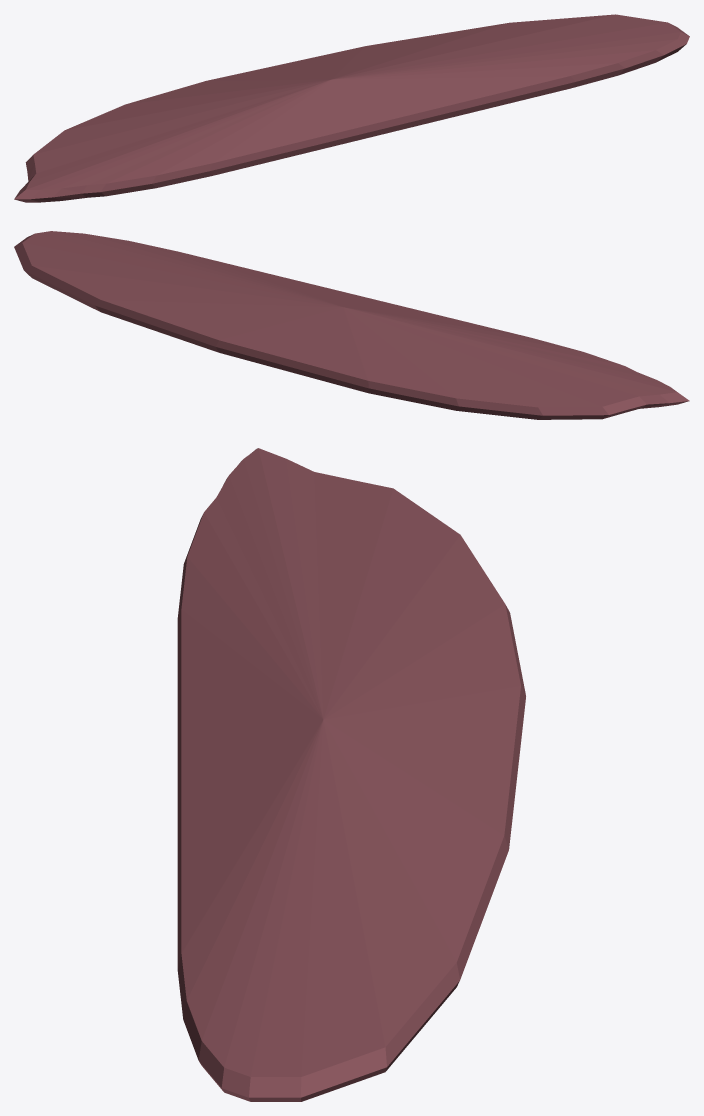
Rendered from RedbudPod.obj.
3 views of the same model, one above another, from view 1: azimuth 30°, elevation 25°; view 2: azimuth 150°, elevation 25°; view 3: azimuth 270°, elevation 25° (orthographic). The views are drawn at different scales.
Parts seen in each view (by area): view 1: Cube; view 2: Cube; view 3: Cube.
Part boxes in pixels (bbox=[...]): Cube: bbox=[14, 14, 689, 202]; Cube: bbox=[14, 231, 689, 419]; Cube: bbox=[177, 448, 525, 1101].
Bounding box in the file's own units: 1.11 × 0.1019 × 0.252.
